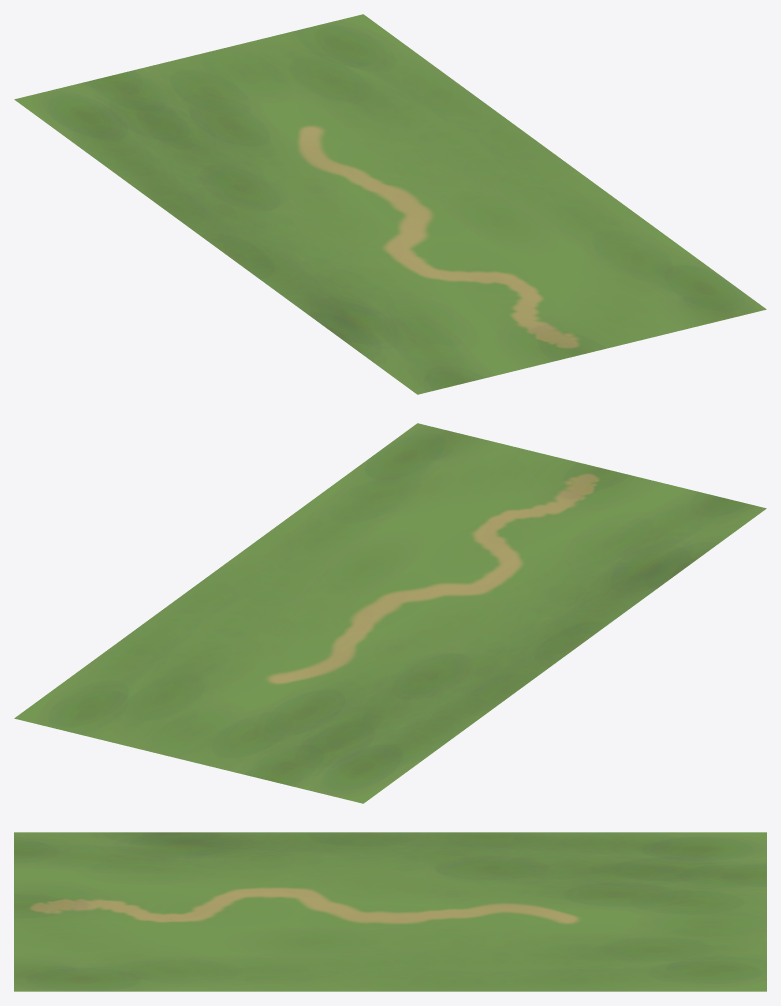
Rendered from terrain.obj.
3 renders of one model, top to bottom at view 1: azimuth 30°, elevation 25°; view 2: azimuth 150°, elevation 25°; view 3: azimuth 270°, elevation 25°, orthographic. The views are drawn at different scales.
Parts seen in each view (by area): view 1: Plane; view 2: Plane; view 3: Plane.
Boxes of the visible parts, <box> form: Plane: <box>14,14,766,394</box>; Plane: <box>14,423,766,803</box>; Plane: <box>14,832,766,991</box>.
Bounding box in the file's own units: 20 × 0 × 40.
1 material, 1 textured.
